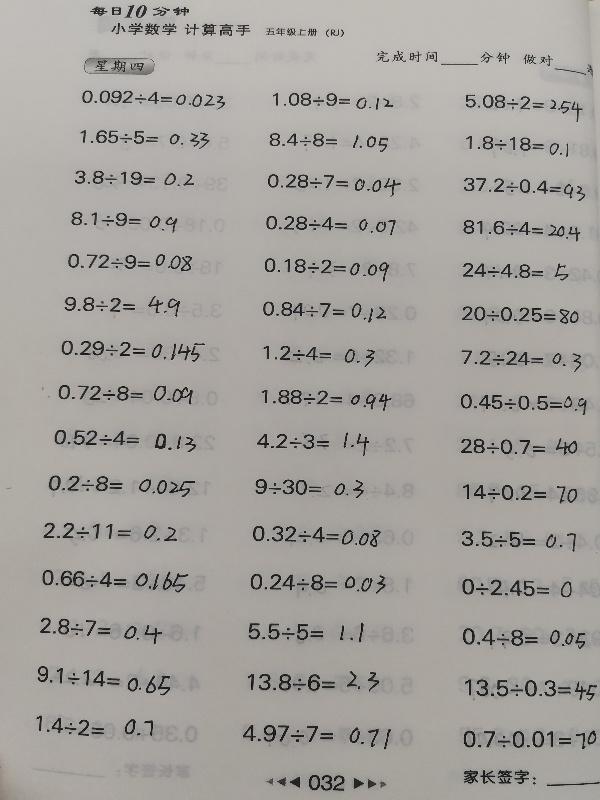equation: (240, 721, 399, 754), (35, 612, 166, 650), (51, 426, 206, 458), (45, 472, 201, 503), (248, 425, 384, 460), (32, 710, 164, 744), (262, 127, 399, 159), (38, 564, 191, 592), (33, 666, 174, 695), (57, 337, 208, 364), (461, 675, 600, 704), (245, 668, 383, 696), (246, 570, 389, 596), (260, 255, 392, 283), (263, 170, 404, 196), (460, 727, 600, 753), (258, 296, 390, 323), (54, 380, 196, 405), (244, 619, 379, 645), (461, 91, 586, 119), (461, 132, 577, 162), (77, 87, 228, 110), (60, 289, 183, 317), (248, 523, 384, 548), (39, 519, 180, 543), (458, 624, 588, 650), (460, 174, 590, 200), (77, 126, 212, 151), (456, 390, 590, 415), (261, 212, 399, 236), (458, 347, 585, 373), (63, 248, 195, 273), (457, 527, 579, 554), (258, 386, 395, 410), (459, 481, 580, 507), (268, 88, 396, 112), (458, 435, 582, 459), (459, 217, 583, 241), (259, 343, 378, 368), (251, 475, 367, 500), (458, 303, 582, 326), (457, 576, 575, 600), (459, 259, 572, 284), (67, 208, 180, 232), (71, 167, 197, 188)
